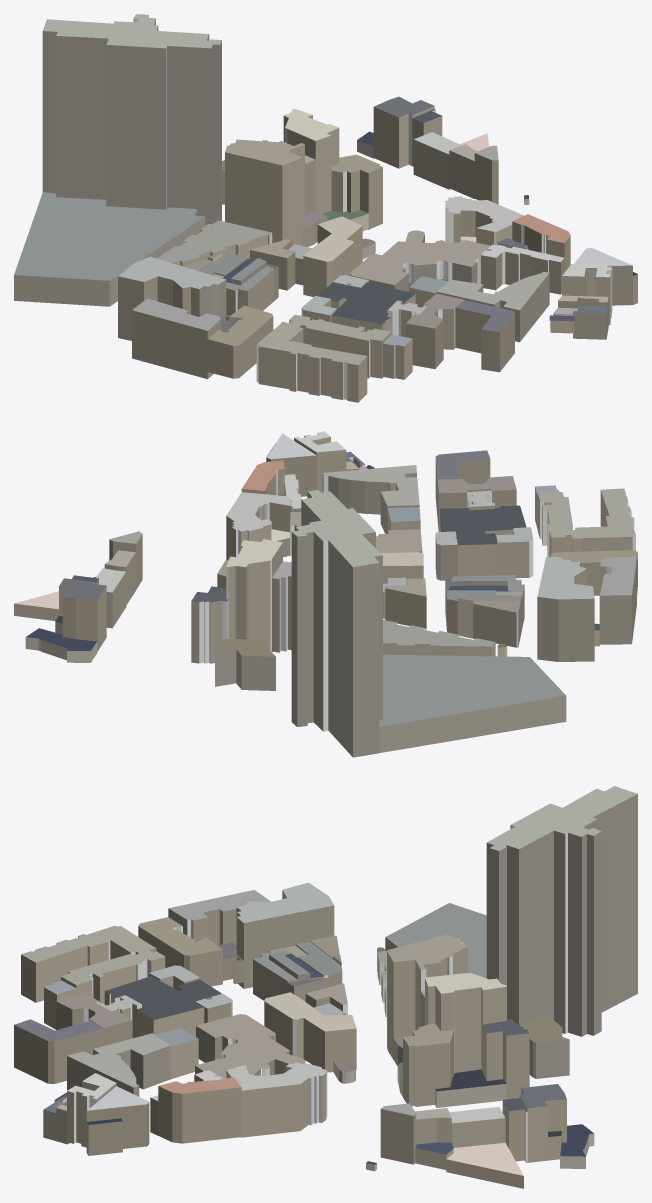
3 renders of one model, top to bottom at view 1: azimuth 30°, elevation 25°; view 2: azimuth 150°, elevation 25°; view 3: azimuth 270°, elevation 25°, orthographic. The views are drawn at different scales.
Visible parts, largest first — view 1: tuile; view 2: tuile; view 3: tuile.
Part boxes in pixels (x1=…): tuile: x1=14, y1=14, x2=637, y2=402; tuile: x1=14, y1=431, x2=637, y2=757; tuile: x1=14, y1=786, x2=637, y2=1188.
Size of the model in its own units: 298 by 105 by 297.
